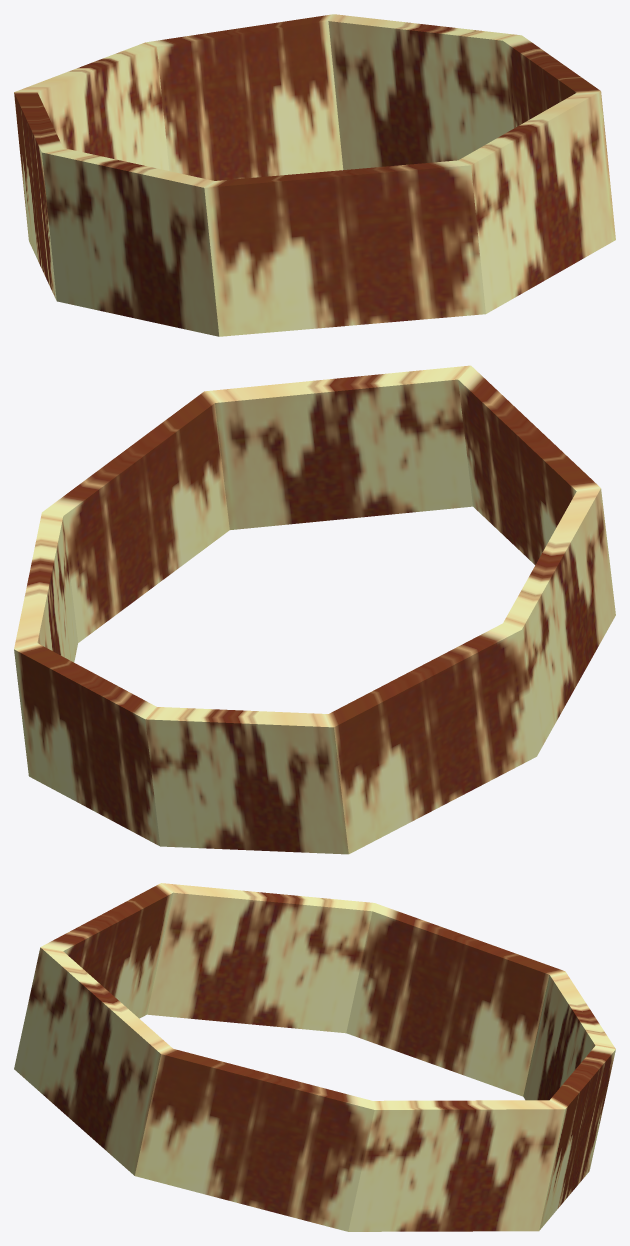
The model's file is helmet_damara_01.dae.
3 views of the same model, one above another, from view 1: azimuth 30°, elevation 25°; view 2: azimuth 150°, elevation 25°; view 3: azimuth 270°, elevation 25° (orthographic). The views are drawn at different scales.
Visible parts, largest first — view 1: a_helmet_arab_a; view 2: a_helmet_arab_a; view 3: a_helmet_arab_a.
Part boxes in pixels (box(x1,y1,x2,y2)): a_helmet_arab_a: box(14, 14, 615, 336); a_helmet_arab_a: box(14, 365, 615, 854); a_helmet_arab_a: box(14, 883, 615, 1231).
Bounding box in the file's own units: 0.4678 × 0.5748 × 0.2361.
